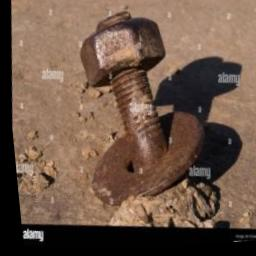Non-Corroded-Nut-and-Bolt: (78, 12, 202, 207)
